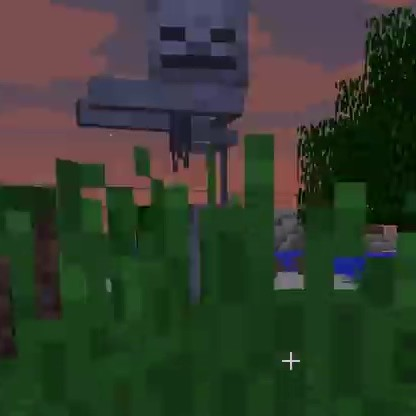skeleton: (122, 2, 260, 150)
